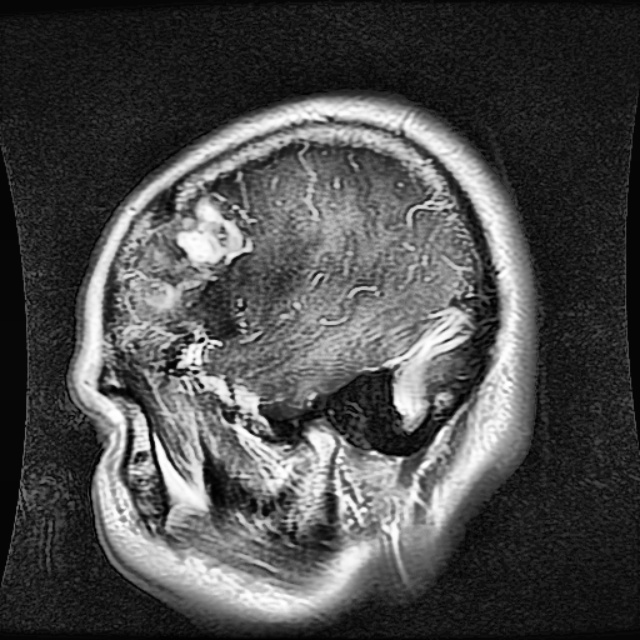Meningioma: (175, 190, 255, 263)
